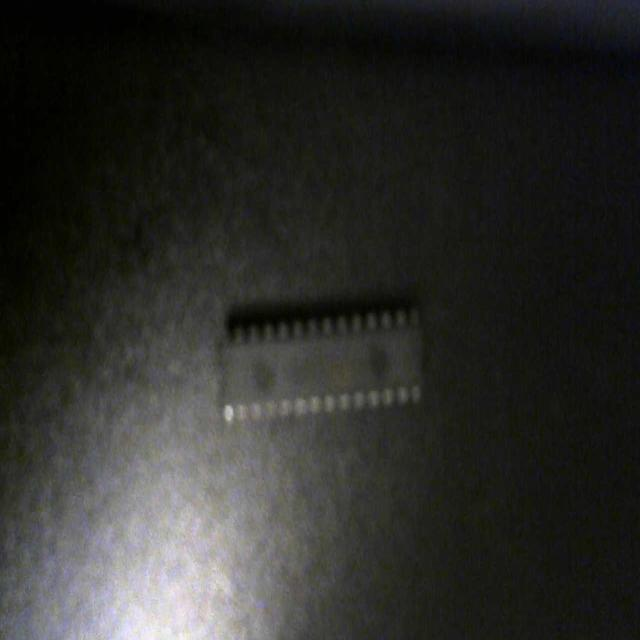atmega: (206, 309, 433, 427)
